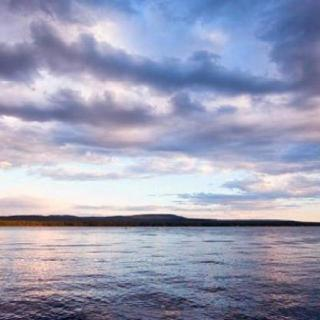Cirrocumulus: (0, 1, 320, 212)
